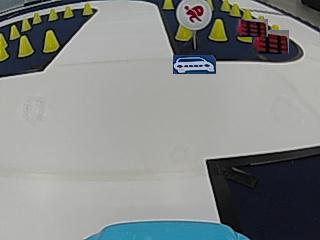thief: (176, 0, 212, 28)
